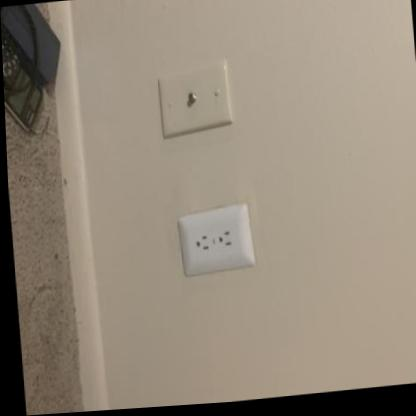OUTLET: (176, 204, 256, 280)
